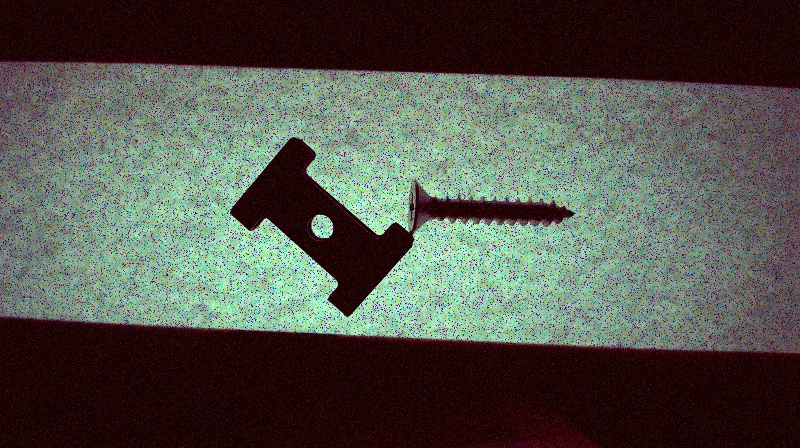O002: (227, 133, 414, 318)
S001: (405, 177, 580, 236)
